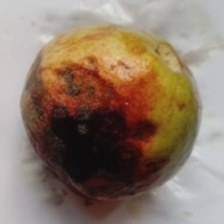guava: (48, 16, 192, 204)
